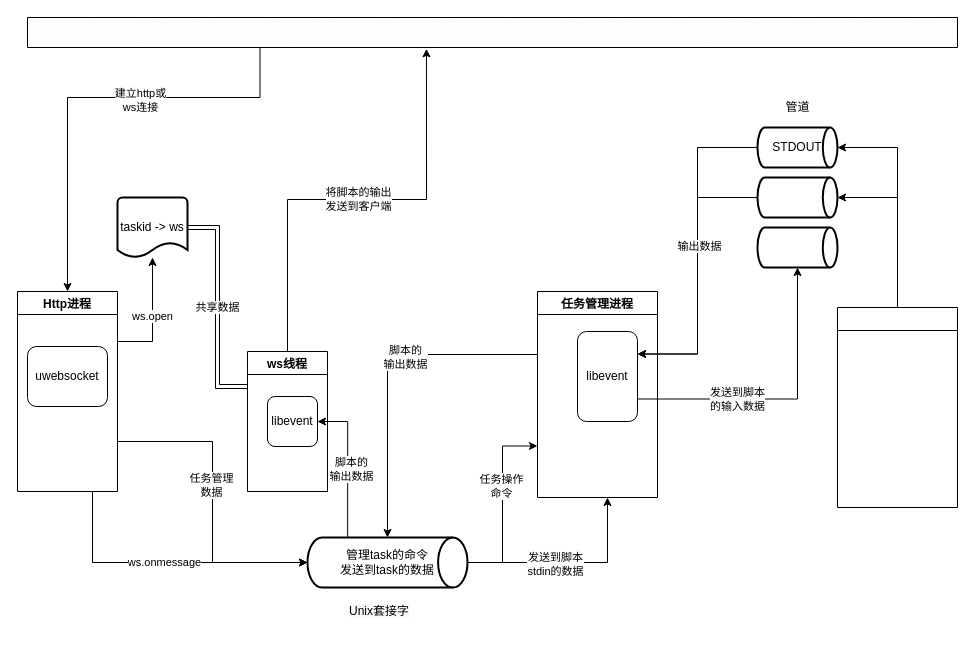
This 975x645 diagram has some shape labels left out. The shapes that lost their labels are listed below. From the top down, each one's centre as x and y in pixels, then its label:
At [492,32]: "客户端".
At [797,197]: "STDERR".
At [797,247]: "STDIN".
At [897,407]: "脚本进程".
